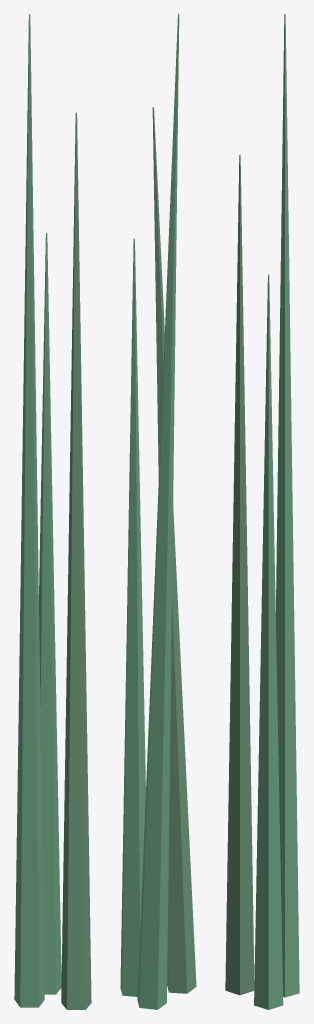
File: brizna_gigante.glb
The picture shows the model from 3 angles, left to right: view 1: azimuth 90°, elevation 25°; view 2: azimuth 150°, elevation 25°; view 3: azimuth 270°, elevation 25°; orthographic projection. The views are drawn at different scales.
Parts seen in each view (by area): view 1: brizna_gigante; view 2: brizna_gigante; view 3: brizna_gigante.
Boxes of the visible parts, box(x1,y1,x2,y2) form: brizna_gigante: box(14, 14, 91, 1009); brizna_gigante: box(120, 14, 196, 1009); brizna_gigante: box(225, 14, 299, 1009).
Size of the model in its own units: 0.3173 by 4.5 by 0.3142.
